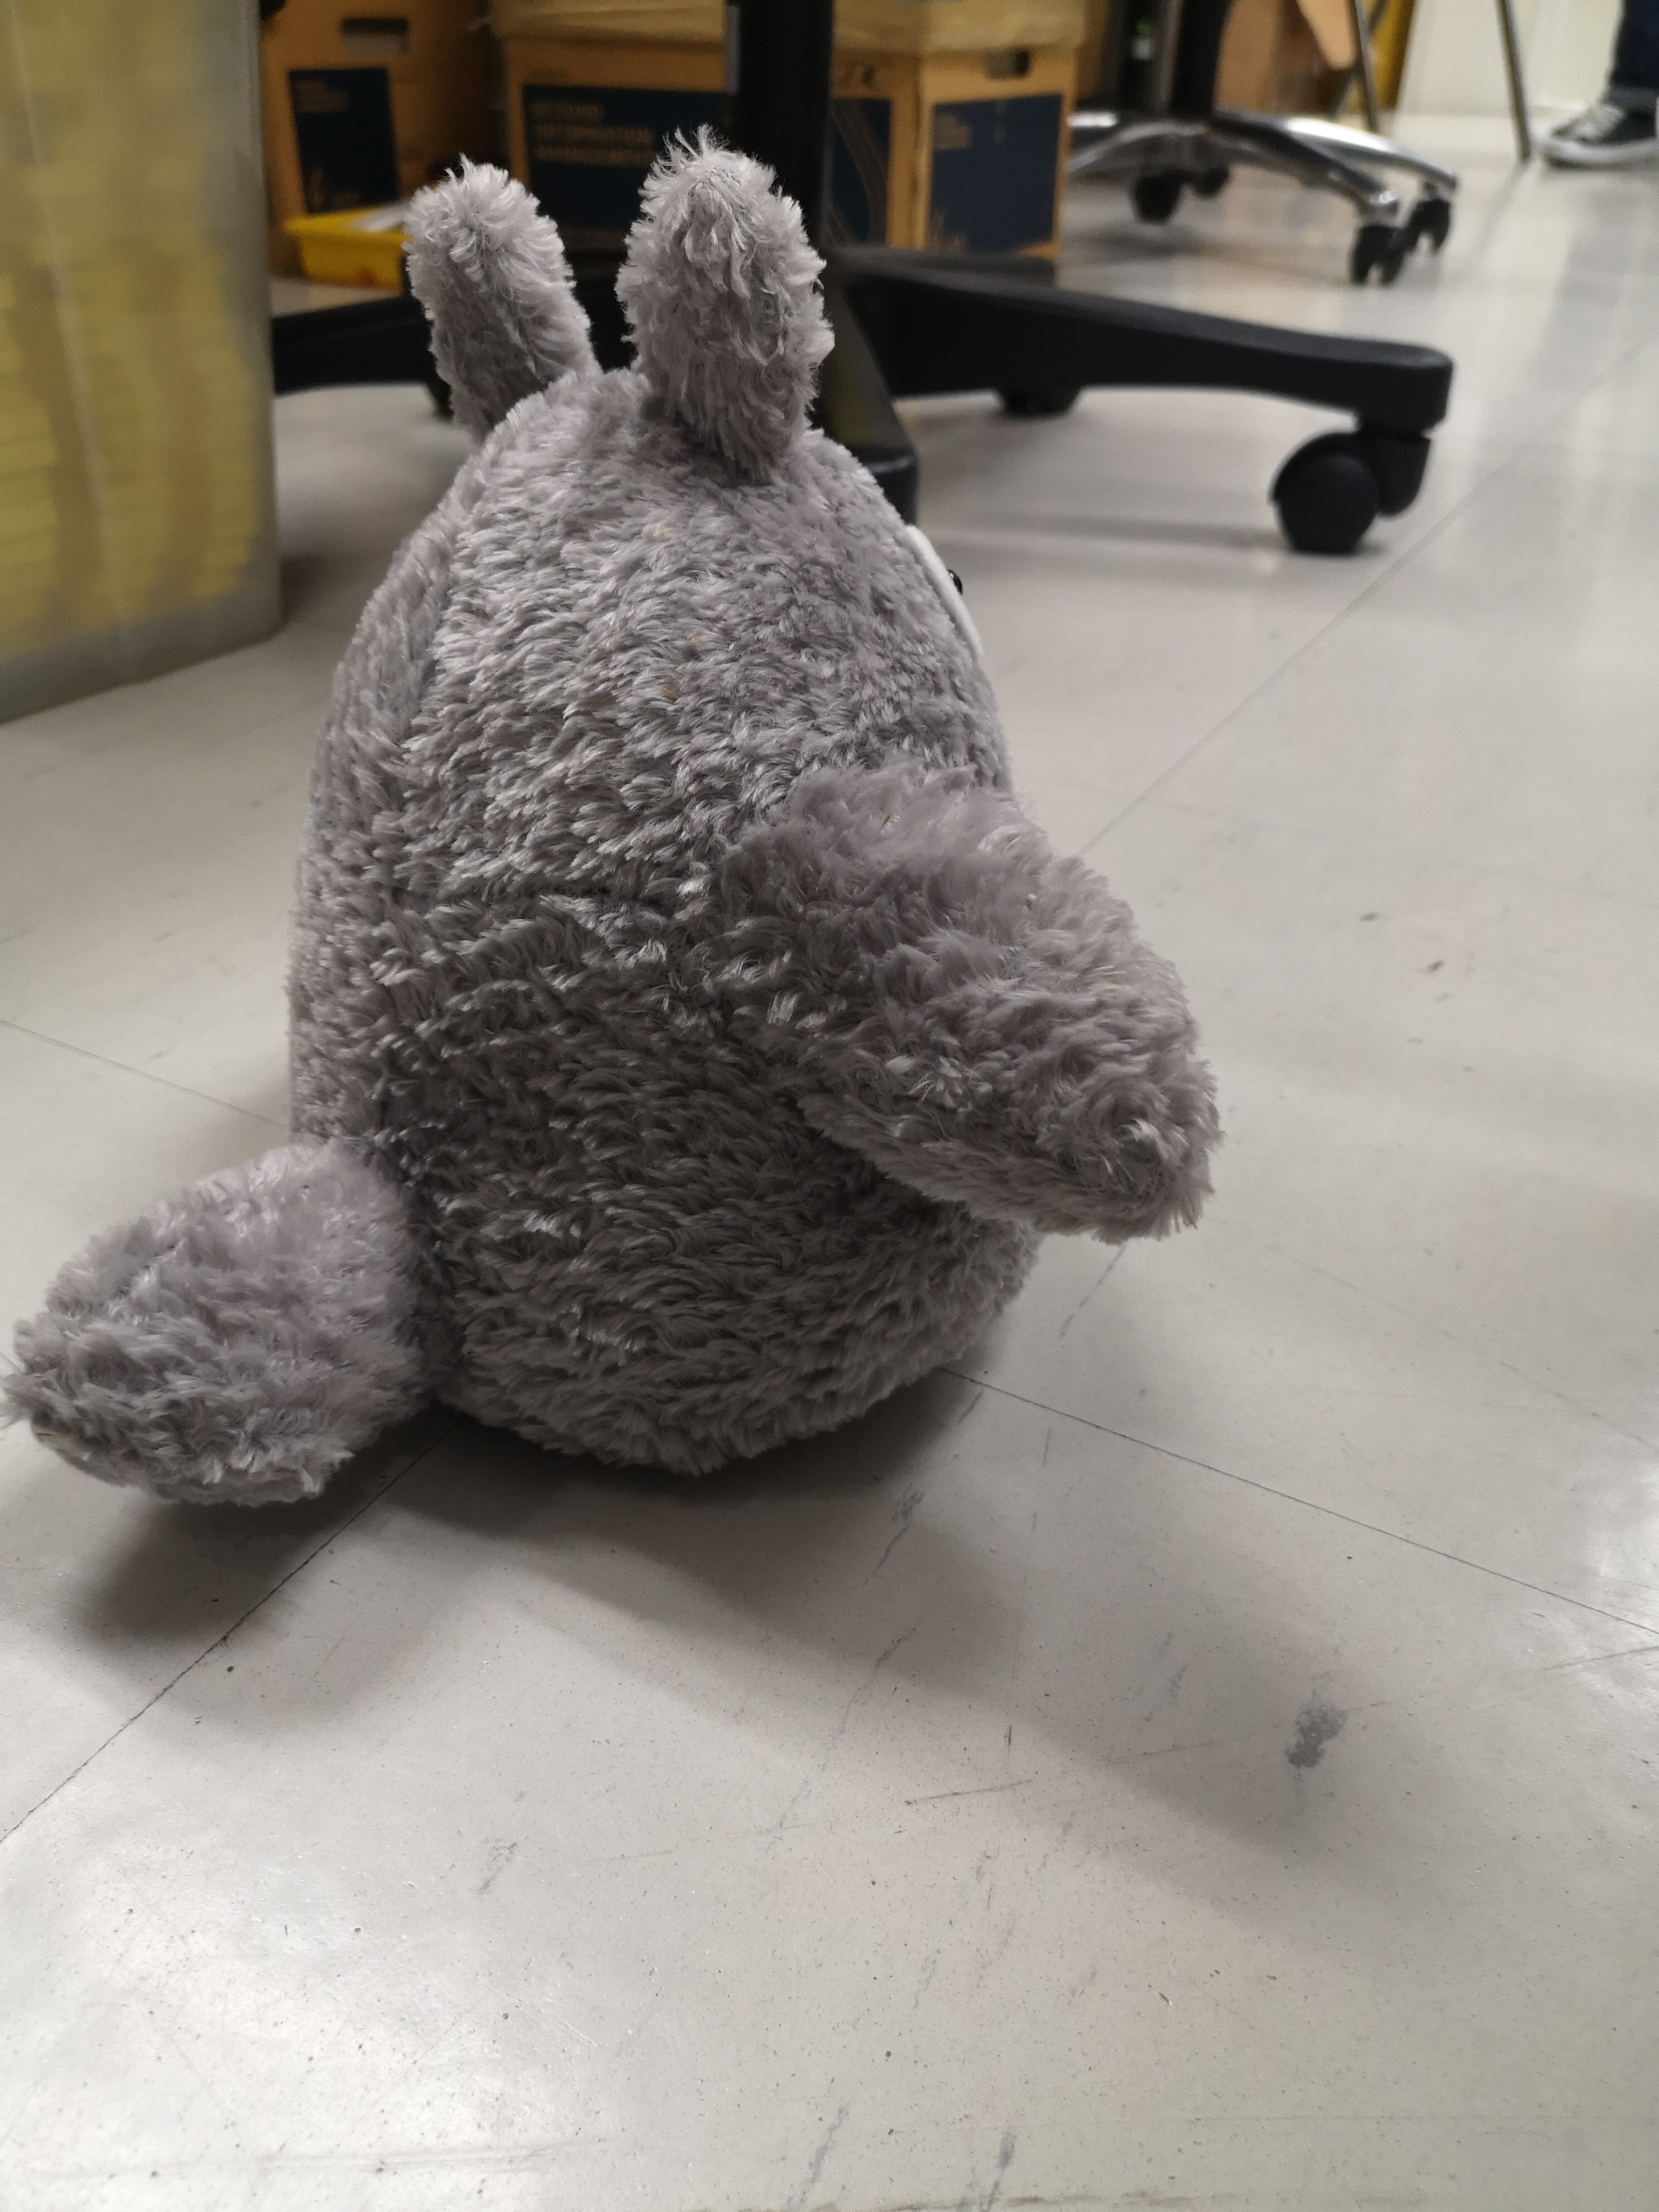totoro: (0, 99, 1241, 1569)
